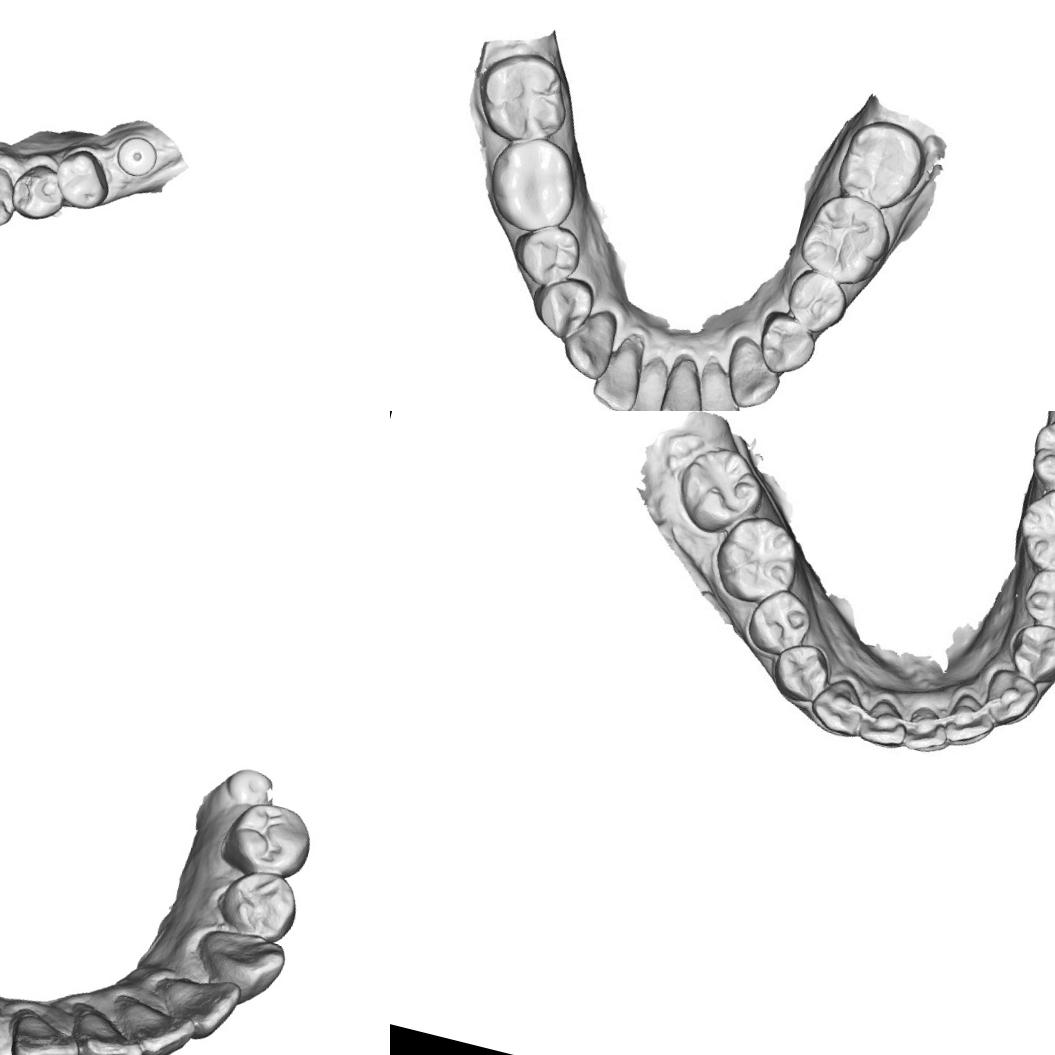canine: (190, 924, 286, 1005), (716, 331, 788, 411), (554, 300, 622, 384), (977, 665, 1042, 732), (805, 673, 870, 740), (0, 157, 24, 244)
implant: (224, 761, 278, 810), (112, 130, 160, 180)
incisor: (109, 986, 195, 1055), (166, 968, 238, 1036), (586, 335, 648, 411), (5, 1004, 86, 1055), (685, 358, 754, 411), (619, 353, 682, 411), (652, 354, 715, 411), (73, 1010, 152, 1055), (855, 690, 913, 749), (902, 700, 956, 759), (945, 690, 998, 750)
molar: (476, 126, 588, 242), (466, 41, 580, 154), (791, 183, 900, 294), (670, 437, 770, 542), (830, 112, 929, 215), (710, 508, 806, 608), (1012, 481, 1055, 578), (1022, 411, 1055, 498)
premolar: (222, 795, 317, 882), (216, 860, 304, 946), (504, 215, 588, 294), (524, 268, 599, 344), (750, 306, 822, 384), (780, 265, 854, 338), (46, 143, 118, 216), (4, 156, 72, 228), (748, 588, 812, 656), (769, 642, 831, 705), (1007, 621, 1055, 687), (1021, 562, 1055, 634)
